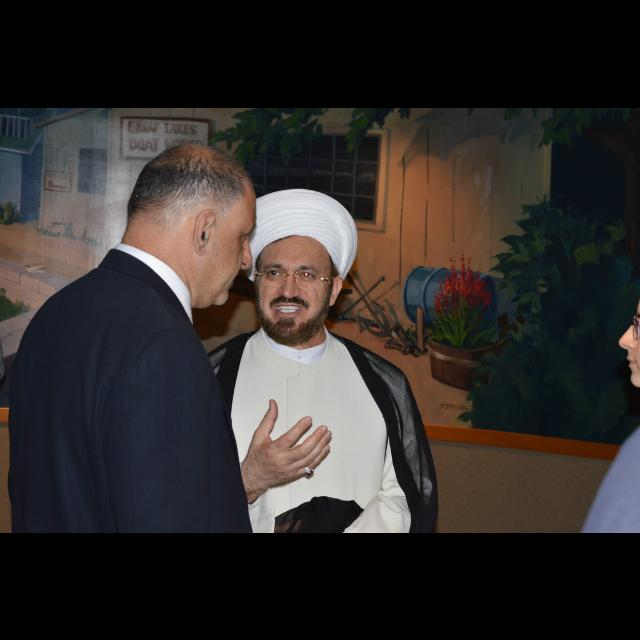Flower: (435, 250, 491, 316)
